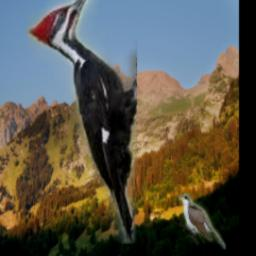Cuckoo: (179, 193, 226, 249)
Woodpecker: (27, 0, 137, 244)
